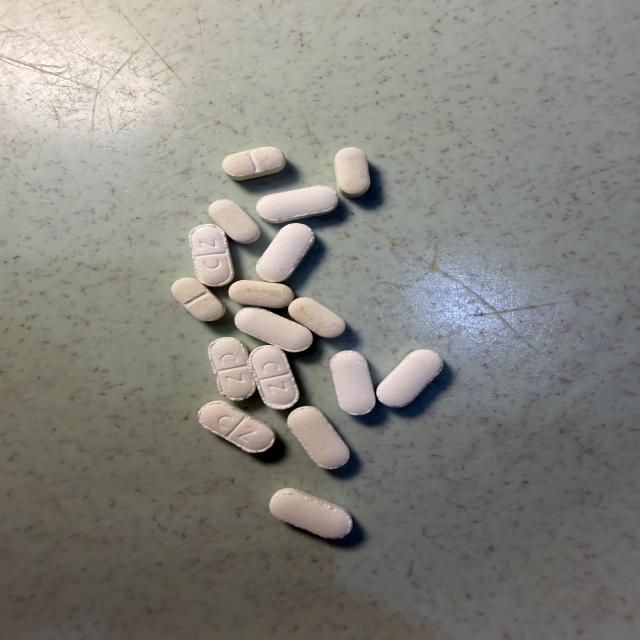pill: (270, 488, 352, 538), (199, 401, 275, 453), (288, 406, 349, 469), (377, 350, 443, 407), (235, 307, 312, 352), (256, 224, 314, 282), (249, 346, 299, 409), (257, 186, 338, 223), (209, 337, 255, 401), (330, 351, 375, 415), (189, 224, 234, 286), (172, 278, 225, 321), (289, 298, 345, 338), (209, 200, 260, 243), (223, 147, 285, 180), (229, 280, 294, 308), (335, 148, 370, 197)
